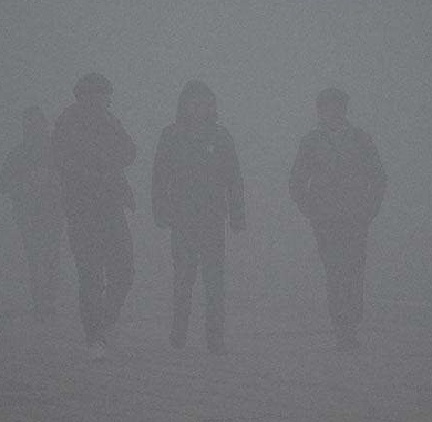person: (149, 75, 249, 357), (288, 87, 389, 349), (54, 71, 140, 344), (5, 105, 73, 323)
